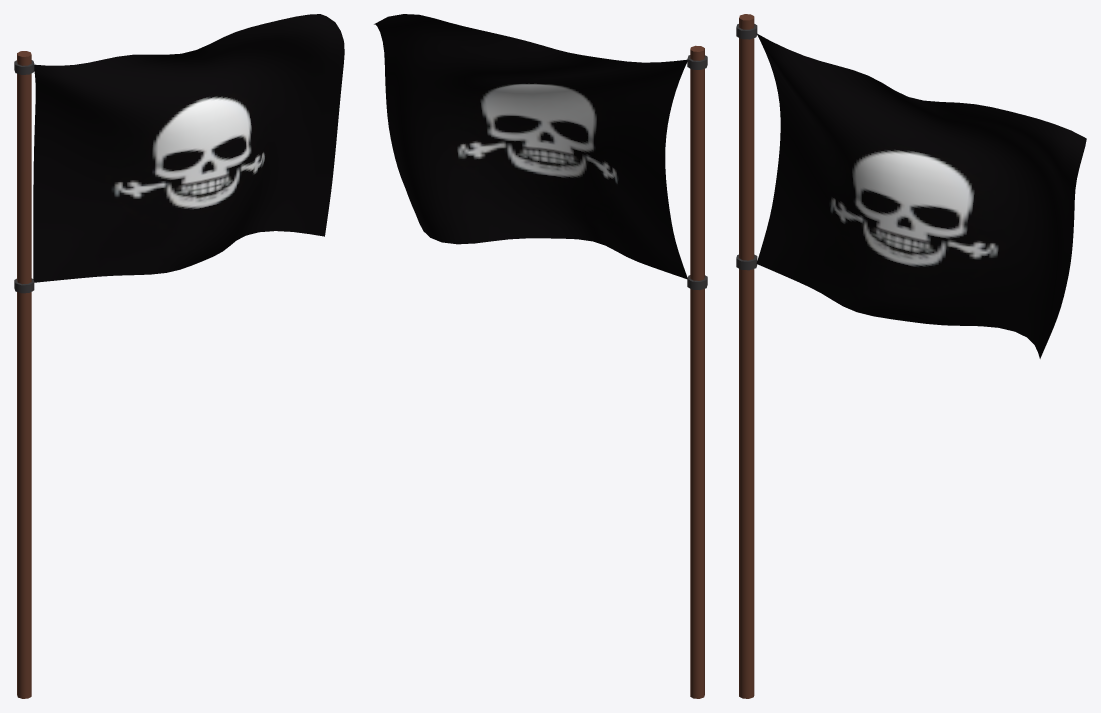
The picture shows the model from 3 angles, left to right: view 1: azimuth 30°, elevation 25°; view 2: azimuth 150°, elevation 25°; view 3: azimuth 330°, elevation 25°; orthographic projection. The views are drawn at different scales.
Parts seen in each view (by area): view 1: PirateFlag, PirateFlagPole; view 2: PirateFlag, PirateFlagPole; view 3: PirateFlag, PirateFlagPole.
Part boxes in pixels (box(x1,y1,x2,y2)): PirateFlag: box(33, 14, 344, 282); PirateFlagPole: box(14, 51, 34, 698); PirateFlag: box(374, 14, 687, 278); PirateFlagPole: box(687, 45, 707, 698); PirateFlag: box(756, 33, 1086, 358); PirateFlagPole: box(736, 14, 757, 698).
Size of what is drawn, in the model's own units: 0.9042 by 1.7 by 0.1514.
2 materials, 2 textured.
